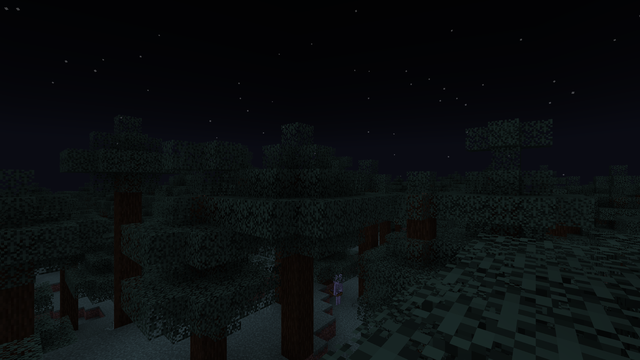squelettes: (332, 281, 344, 306)
